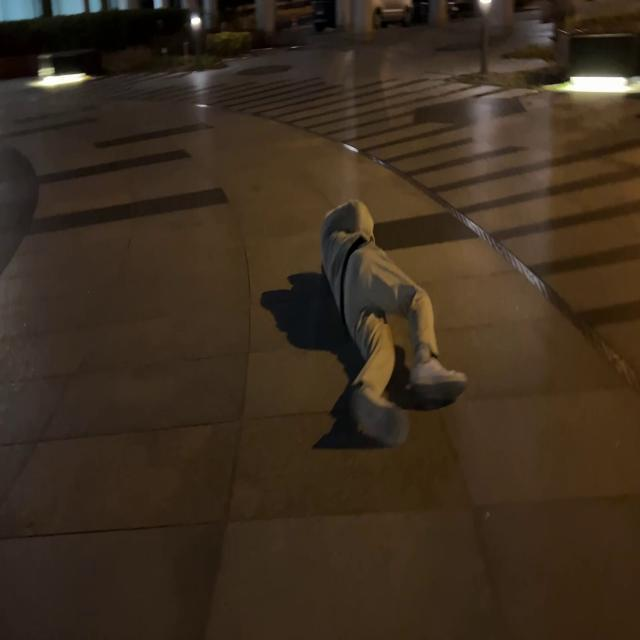Fall: (322, 200, 467, 448)
